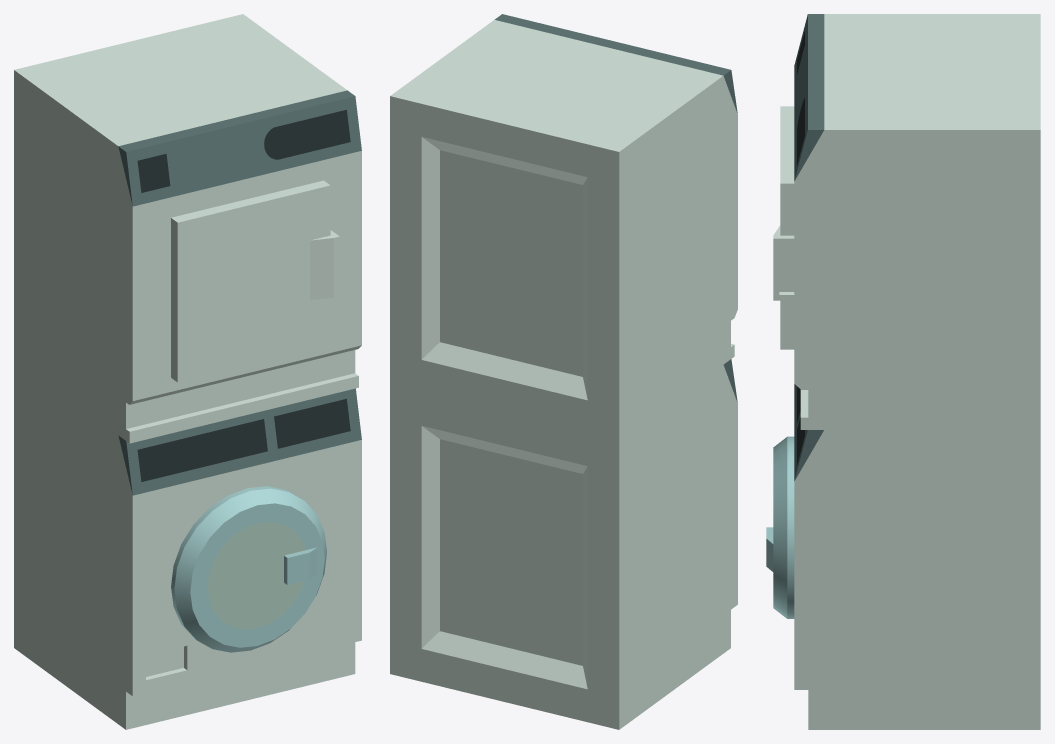
File: washerDryerStacked.glb
3 renders of one model, left to right at view 1: azimuth 30°, elevation 25°; view 2: azimuth 150°, elevation 25°; view 3: azimuth 270°, elevation 25°, orthographic. The views are drawn at different scales.
Parts seen in each view (by area): view 1: washerDryerStacked, dryerDoor 1, washerDoor 1; view 2: washerDryerStacked; view 3: washerDryerStacked, washerDoor 1, dryerDoor 1.
Part boxes in pixels (x1,y1,x2,y2): washerDryerStacked: (14,14,361,729); dryerDoor 1: (171,180,339,382); washerDoor 1: (171,486,326,652); washerDryerStacked: (390,14,737,729); washerDryerStacked: (794,14,1040,729); washerDoor 1: (766,436,794,618); dryerDoor 1: (773,106,794,349).
Size of the model in its own units: 0.702 by 1.69 by 0.702.
